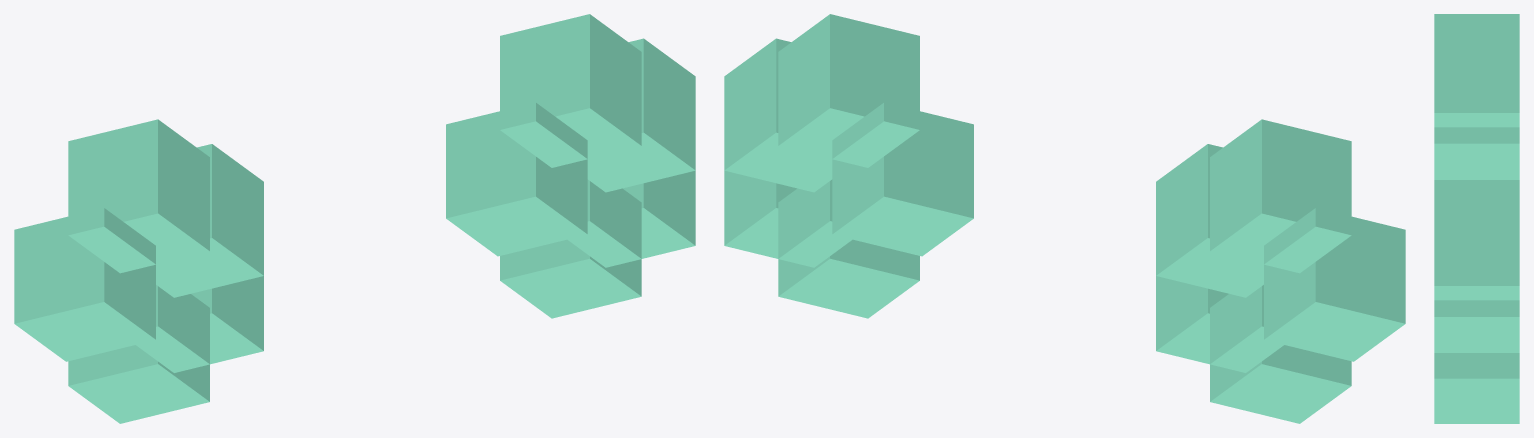
Rendered from explosion_groups_model.gltf.
The picture shows the model from 3 angles, left to right: view 1: azimuth 30°, elevation 25°; view 2: azimuth 150°, elevation 25°; view 3: azimuth 270°, elevation 25°; orthographic projection. The views are drawn at different scales.
Parts seen in each view (by area): view 1: B2, A2, A1, B1, B3, A4, A3, B4, B5, A5; view 2: B2, A2, B1, A1, B4, A3, B3, A4, B5, A5; view 3: A4, B4, A2, B2, B5, A5, B3.
Boxes of the visible parts, bbox=[...] form: B2: bbox=[500, 14, 641, 167]; A2: bbox=[68, 119, 209, 273]; A1: bbox=[14, 208, 155, 361]; B1: bbox=[446, 103, 587, 256]; B3: bbox=[500, 178, 641, 318]; A4: bbox=[122, 144, 263, 297]; A3: bbox=[68, 286, 209, 423]; B4: bbox=[554, 38, 695, 192]; B5: bbox=[567, 114, 695, 267]; A5: bbox=[136, 220, 263, 372]; B2: bbox=[778, 14, 919, 167]; A2: bbox=[1210, 119, 1351, 273]; B1: bbox=[832, 102, 973, 256]; A1: bbox=[1264, 208, 1405, 361]; B4: bbox=[724, 38, 865, 192]; A3: bbox=[1210, 285, 1351, 423]; B3: bbox=[778, 179, 919, 318]; A4: bbox=[1156, 144, 1294, 297]; B5: bbox=[724, 114, 852, 267]; A5: bbox=[1156, 224, 1283, 372]; A4: bbox=[1434, 66, 1519, 179]; B4: bbox=[1434, 239, 1519, 352]; A2: bbox=[1434, 14, 1519, 127]; B2: bbox=[1434, 187, 1519, 300]; B5: bbox=[1434, 301, 1519, 414]; A5: bbox=[1434, 128, 1519, 186]; B3: bbox=[1434, 414, 1519, 423].
Size of the model in its own units: 7 by 2.6 by 1.
